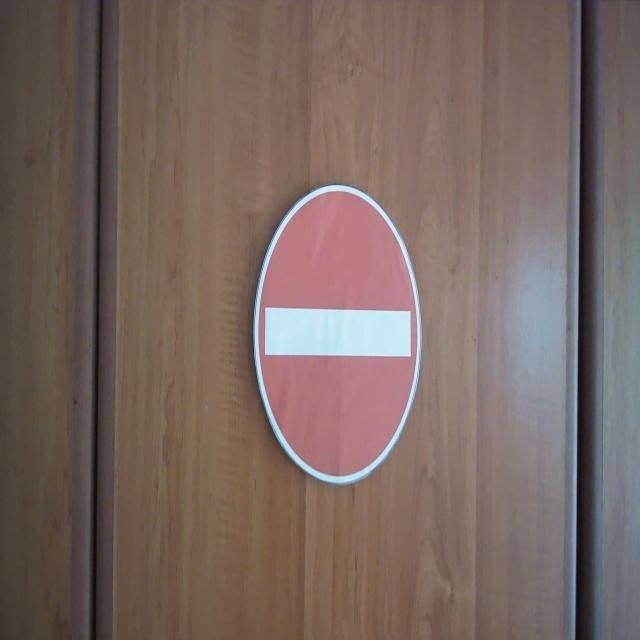no_entry: (252, 182, 424, 487)
